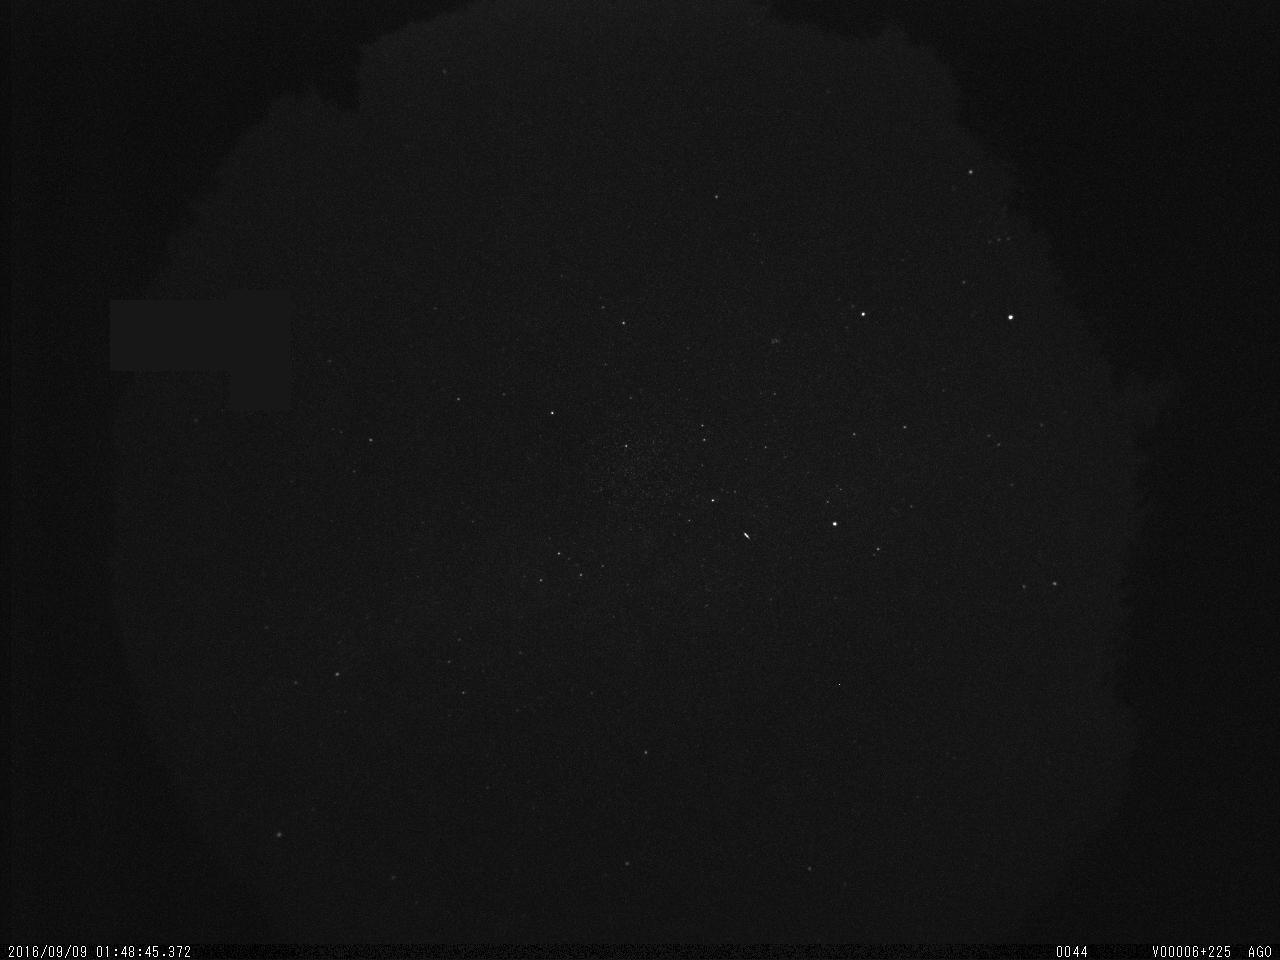meteor: (740, 529, 761, 548)
